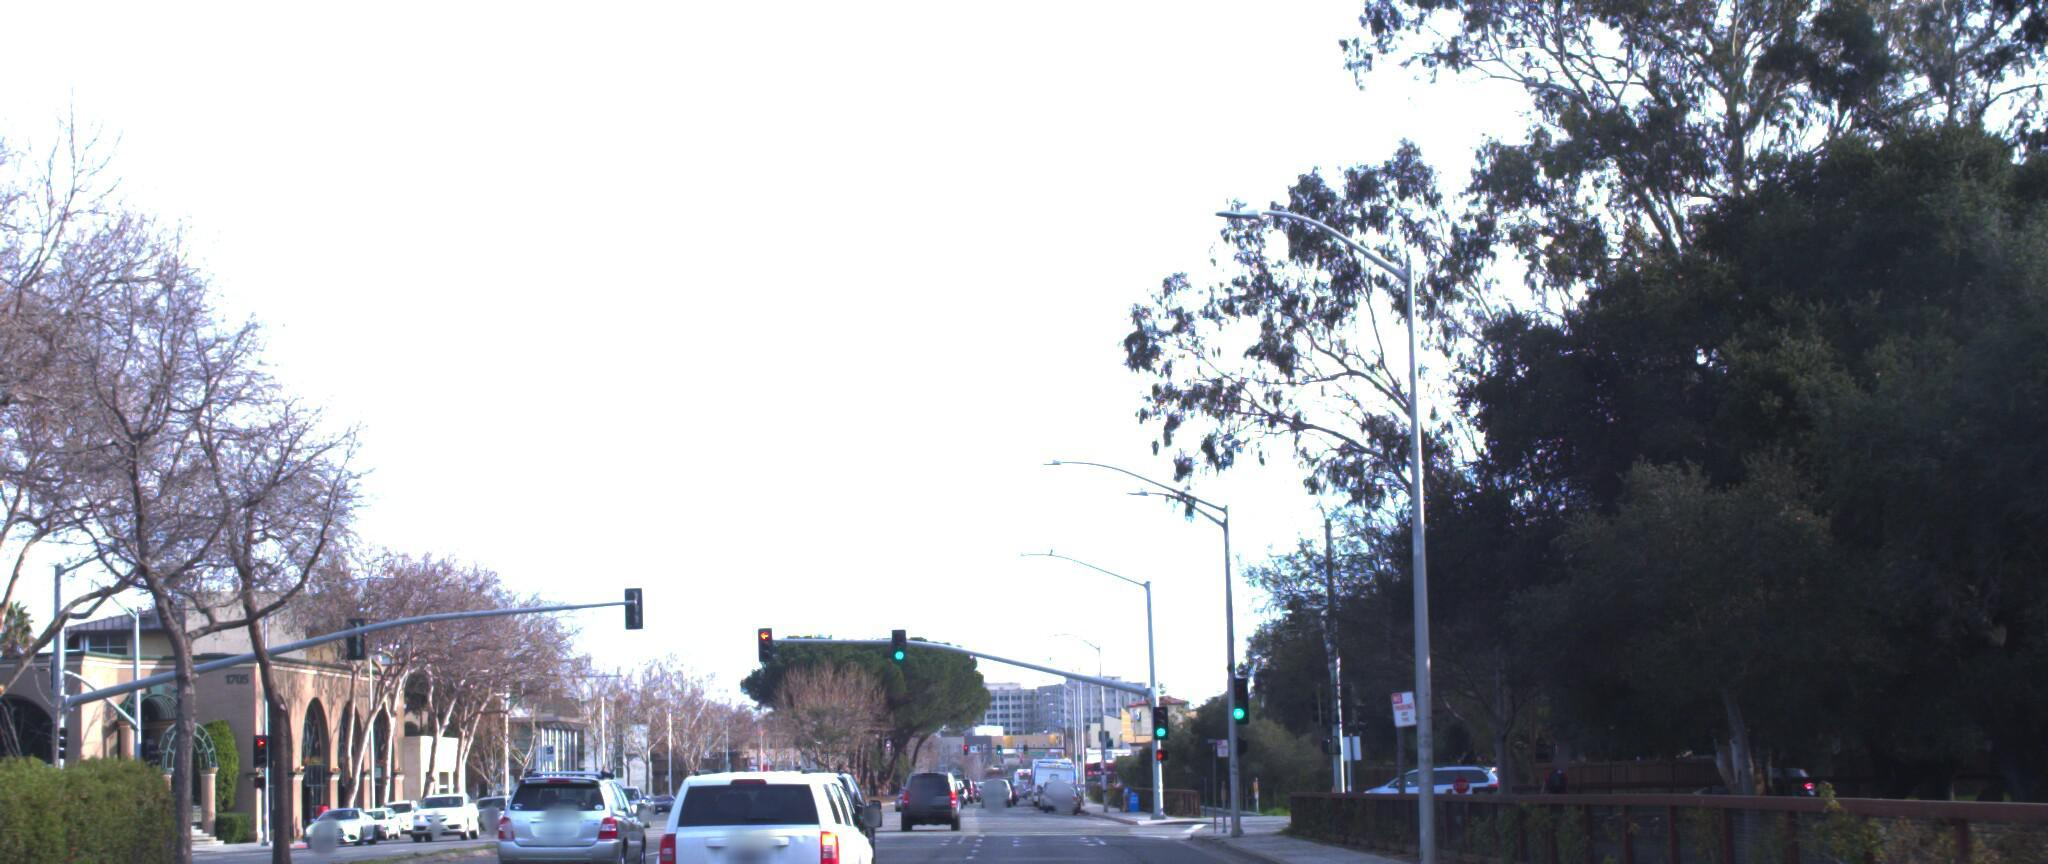car: (622, 754, 872, 864), (481, 765, 649, 864)
